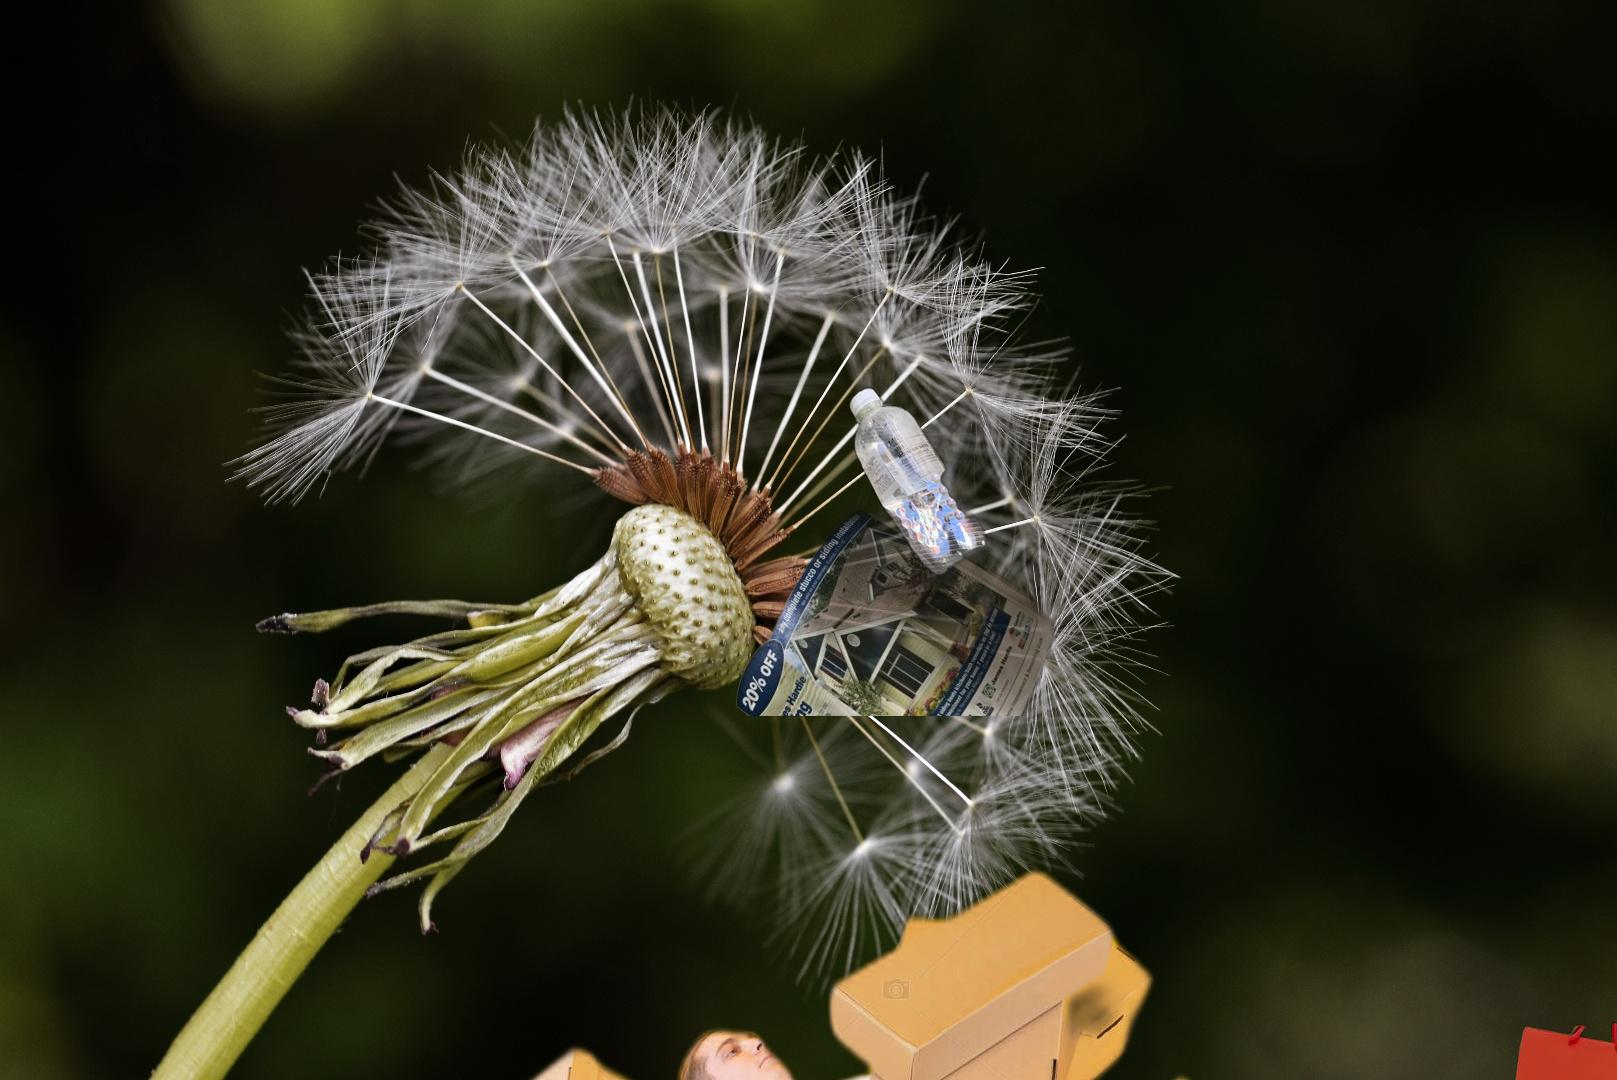paper: (664, 331, 1176, 716)
paper-bag: (1501, 1019, 1617, 1080)
plastic-bottles: (843, 382, 1013, 769)
trashbox-cardboard: (461, 855, 1594, 1080)
